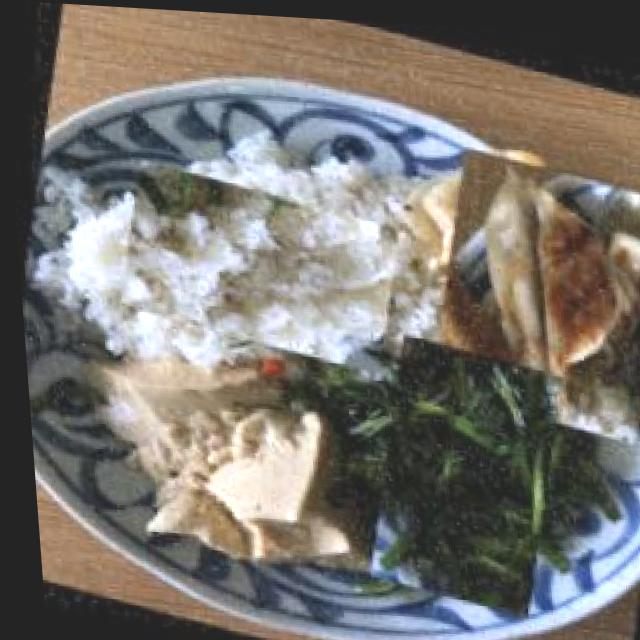fried_dumplings: (399, 143, 640, 433)
rice: (104, 154, 409, 373)
water_spinach: (326, 339, 588, 599)
